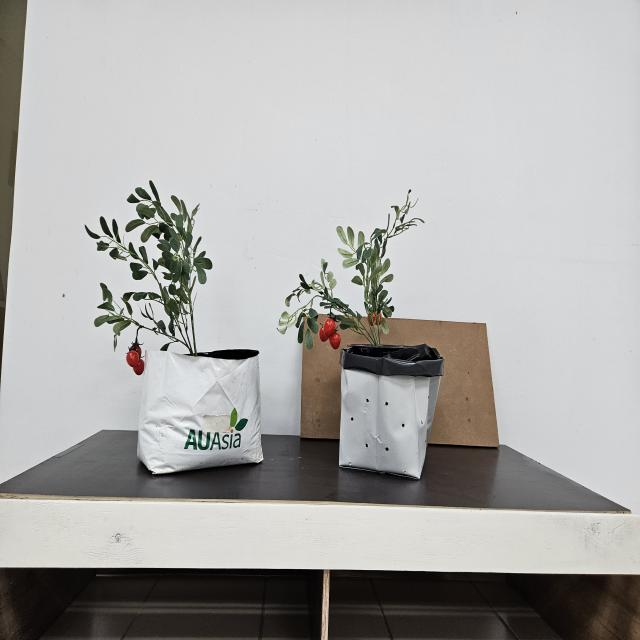Soilbag: (136, 349, 264, 477), (338, 346, 443, 482)
Tomato: (318, 318, 342, 350), (124, 343, 145, 378)
plant: (84, 181, 212, 375), (276, 190, 424, 351)
